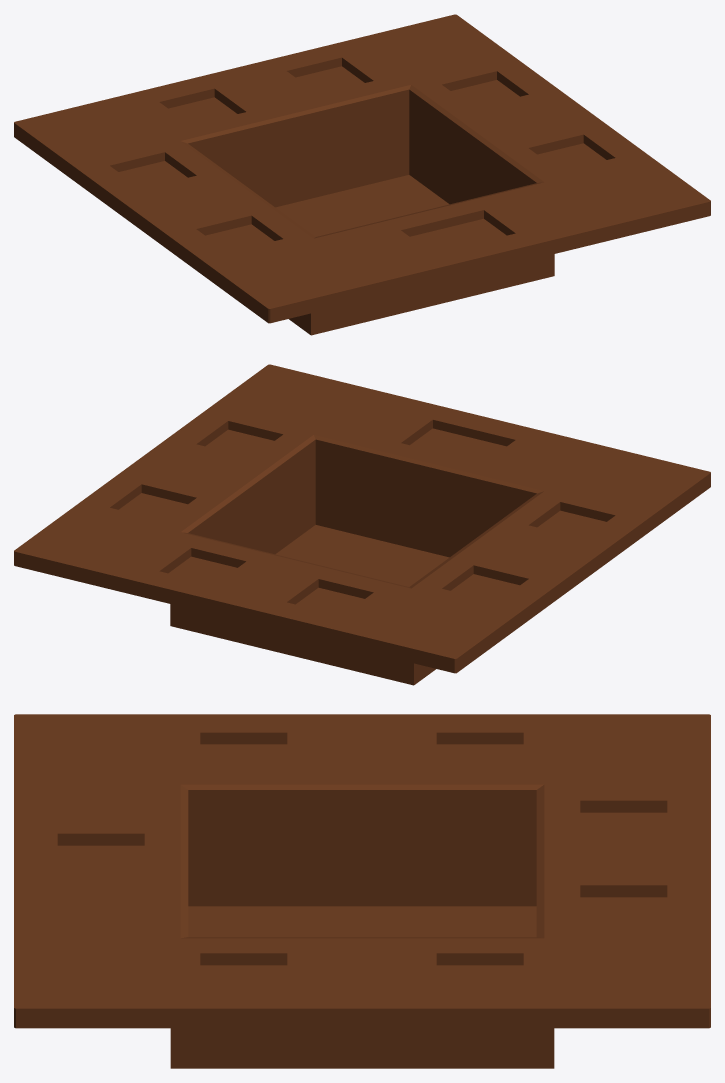
Rendered from VTT_Table.fbx.
3 renders of one model, top to bottom at view 1: azimuth 30°, elevation 25°; view 2: azimuth 150°, elevation 25°; view 3: azimuth 270°, elevation 25°, orthographic. The views are drawn at different scales.
Parts seen in each view (by area): view 1: Cube.001; view 2: Cube.001; view 3: Cube.001.
Boxes of the visible parts, x1,y1,x2,y2 form: Cube.001: [14, 14, 710, 335]; Cube.001: [14, 364, 710, 685]; Cube.001: [14, 714, 710, 1068].
Size of the model in its own units: 160 by 32 by 160.
